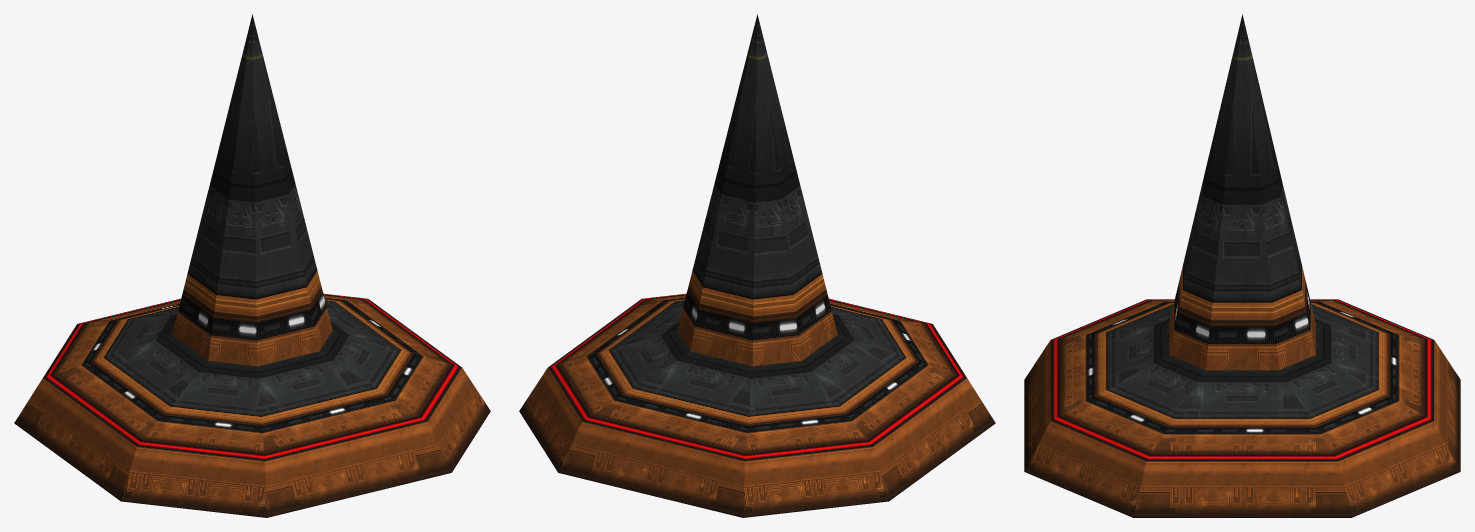
The model's file is igbolt00.FBX.
3 views of the same model, side by side, from view 1: azimuth 30°, elevation 25°; view 2: azimuth 150°, elevation 25°; view 3: azimuth 270°, elevation 25° (orthographic). The views are drawn at different scales.
Parts seen in each view (by area): view 1: igbolt00; view 2: igbolt00; view 3: igbolt00.
Boxes of the visible parts, x1,y1,x2,y2 form: igbolt00: (14, 14, 490, 517); igbolt00: (519, 14, 995, 517); igbolt00: (1024, 14, 1460, 517).
Size of what is drawn, in the model's own units: 1.74 by 1.74 by 1.94.
